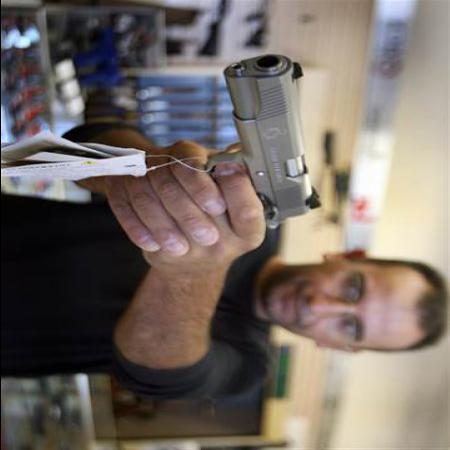Pistol: (202, 55, 324, 236)
